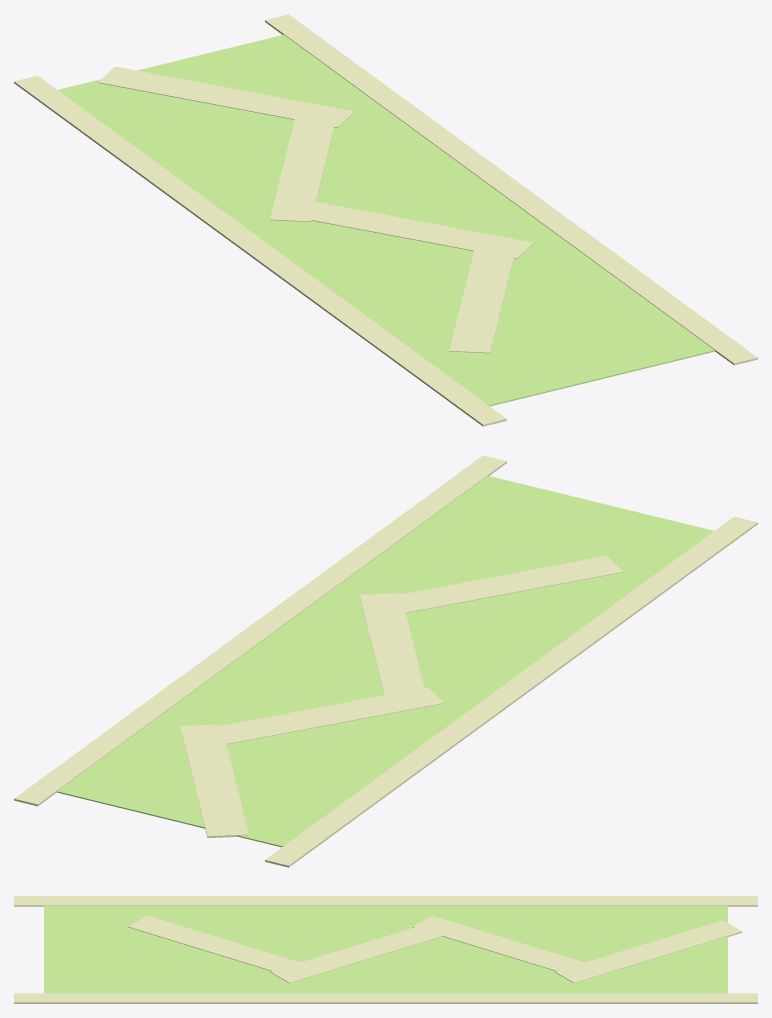
File: marking_separator_buffer_green.glb
The picture shows the model from 3 angles, top to bottom: view 1: azimuth 30°, elevation 25°; view 2: azimuth 150°, elevation 25°; view 3: azimuth 270°, elevation 25°; orthographic projection. The views are drawn at different scales.
Visible parts, largest first — view 1: separator_buffer_green_fill, separator_buffer_green_edge_left, separator_buffer_green_edge_right, separator_buffer_green_diag_0, separator_buffer_green_diag_3, separator_buffer_green_diag_1, separator_buffer_green_diag_2; view 2: separator_buffer_green_fill, separator_buffer_green_edge_left, separator_buffer_green_edge_right, separator_buffer_green_diag_3, separator_buffer_green_diag_0, separator_buffer_green_diag_2, separator_buffer_green_diag_1; view 3: separator_buffer_green_fill, separator_buffer_green_edge_right, separator_buffer_green_edge_left, separator_buffer_green_diag_0, separator_buffer_green_diag_2, separator_buffer_green_diag_3, separator_buffer_green_diag_1.
Part boxes in pixels (left/top/right/bottom): separator_buffer_green_fill: left=58, top=34, right=714, bottom=406; separator_buffer_green_edge_left: left=14, top=75, right=506, bottom=426; separator_buffer_green_edge_right: left=265, top=14, right=757, bottom=365; separator_buffer_green_diag_0: left=98, top=66, right=354, bottom=127; separator_buffer_green_diag_3: left=449, top=240, right=517, bottom=353; separator_buffer_green_diag_1: left=270, top=109, right=337, bottom=221; separator_buffer_green_diag_2: left=278, top=197, right=533, bottom=259; separator_buffer_green_fill: left=57, top=475, right=713, bottom=847; separator_buffer_green_edge_left: left=265, top=516, right=757, bottom=867; separator_buffer_green_edge_right: left=14, top=455, right=506, bottom=806; separator_buffer_green_diag_3: left=367, top=555, right=623, bottom=616; separator_buffer_green_diag_0: left=180, top=724, right=248, bottom=837; separator_buffer_green_diag_2: left=359, top=593, right=427, bottom=704; separator_buffer_green_diag_1: left=198, top=687, right=444, bottom=747; separator_buffer_green_fill: left=44, top=905, right=727, bottom=993; separator_buffer_green_edge_right: left=14, top=993, right=757, bottom=1003; separator_buffer_green_edge_left: left=14, top=896, right=757, bottom=906; separator_buffer_green_diag_0: left=555, top=920, right=742, bottom=983; separator_buffer_green_diag_2: left=270, top=920, right=457, bottom=983; separator_buffer_green_diag_3: left=128, top=915, right=308, bottom=977; separator_buffer_green_diag_1: left=413, top=915, right=596, bottom=977.
Bounding box in the file's own units: 0.92 × 0.006 × 2.72.
